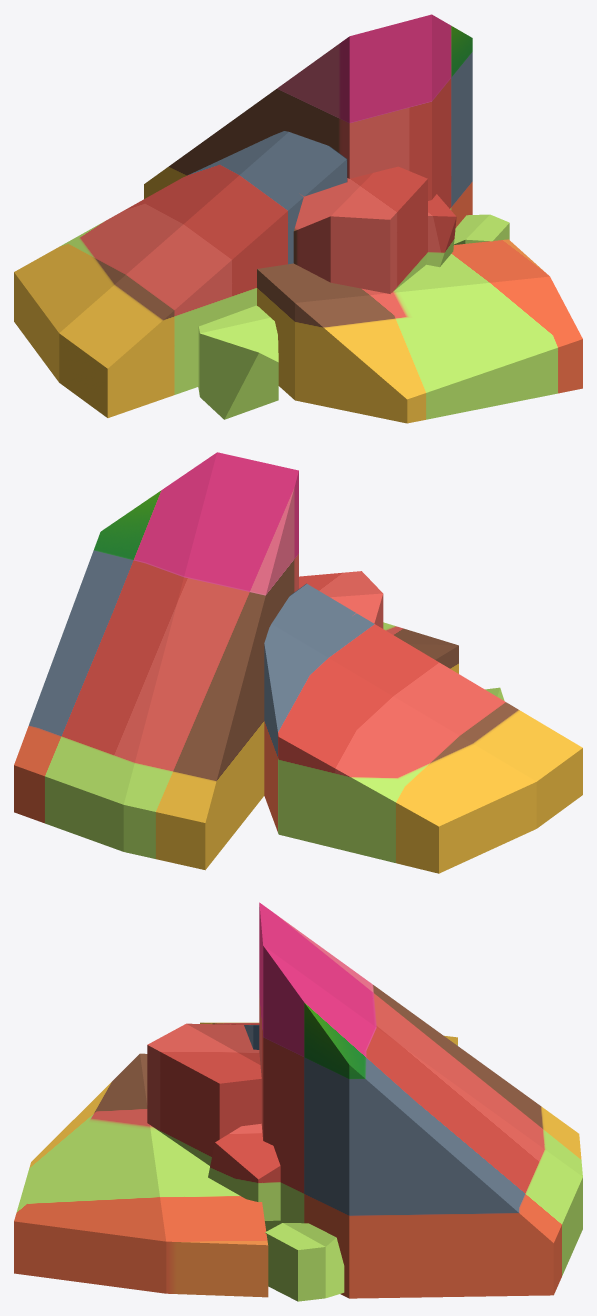
Rendered from rock_9.fbx.
3 views of the same model, one above another, from view 1: azimuth 30°, elevation 25°; view 2: azimuth 150°, elevation 25°; view 3: azimuth 270°, elevation 25° (orthographic). The views are drawn at different scales.
Parts seen in each view (by area): view 1: rock_9; view 2: rock_9; view 3: rock_9.
Part boxes in pixels (<box>): rock_9: <box>14,14,582,423</box>; rock_9: <box>14,452,582,873</box>; rock_9: <box>14,902,582,1301</box>.
Size of the model in its own units: 226 by 144 by 236.
